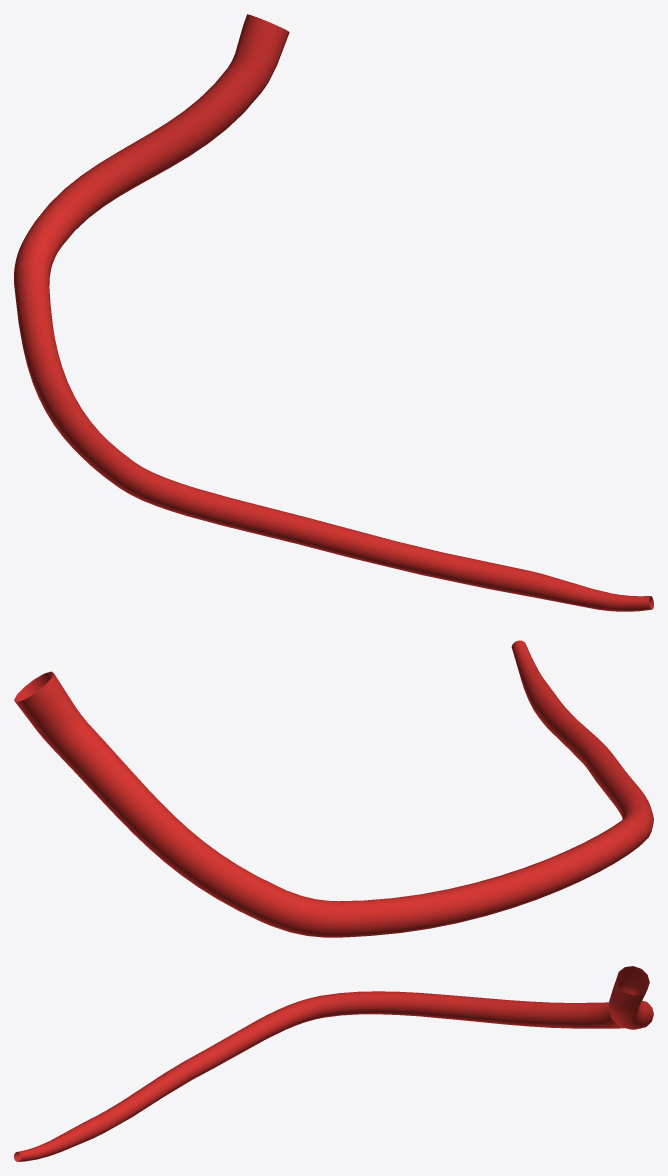
The model's file is circulatorio-inferior-medial-genicular-artery-l.glb.
3 views of the same model, one above another, from view 1: azimuth 30°, elevation 25°; view 2: azimuth 150°, elevation 25°; view 3: azimuth 270°, elevation 25° (orthographic). The views are drawn at different scales.
Visible parts, largest first — view 1: Inferior medial genicular artery.l; view 2: Inferior medial genicular artery.l; view 3: Inferior medial genicular artery.l.
Boxes of the visible parts, <box> form: Inferior medial genicular artery.l: <box>14,14,653,611</box>; Inferior medial genicular artery.l: <box>14,640,653,937</box>; Inferior medial genicular artery.l: <box>14,966,653,1161</box>.
Bounding box in the file's own units: 0.0383 × 0.0271 × 0.0752.
